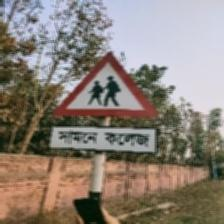College-in-front: (46, 46, 186, 192)
